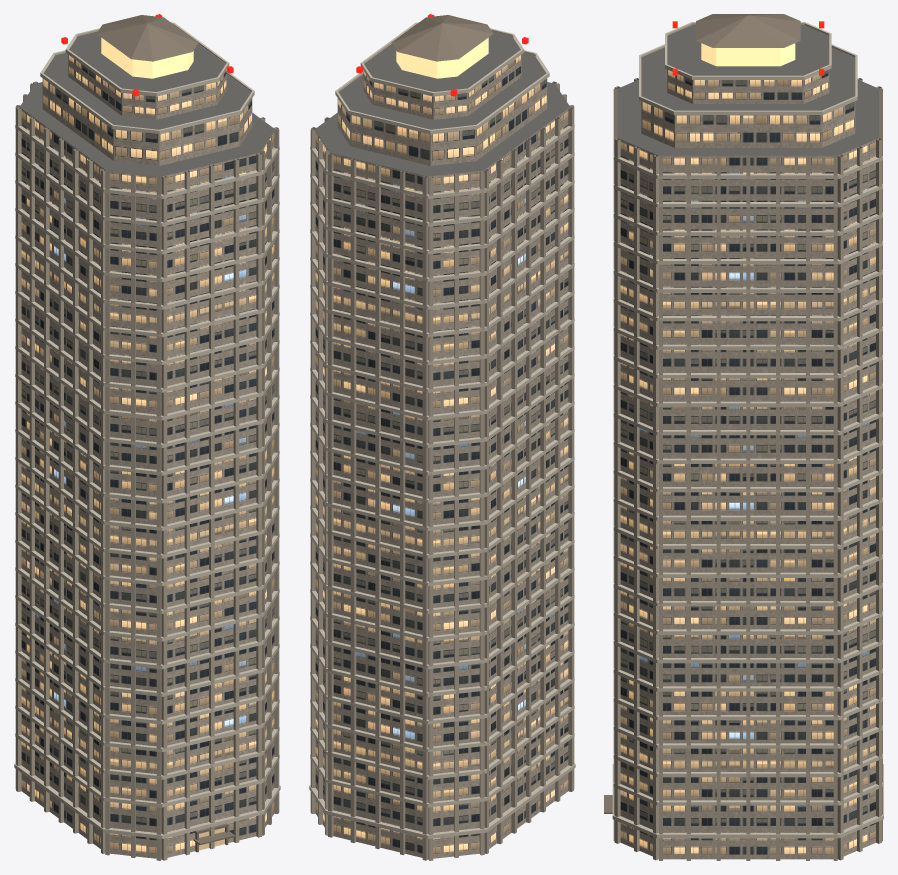
Rendered from river_city_21.glb.
The picture shows the model from 3 angles, left to right: view 1: azimuth 30°, elevation 25°; view 2: azimuth 150°, elevation 25°; view 3: azimuth 270°, elevation 25°; orthographic projection. The views are drawn at different scales.
Visible parts, largest first — view 1: river_city_21; view 2: river_city_21; view 3: river_city_21.
Boxes of the visible parts, x1,y1,x2,y2 form: river_city_21: (14,14,280,860); river_city_21: (309,14,575,860); river_city_21: (604,14,883,860).
Size of the model in its own units: 43 by 180 by 57.
2 materials, 2 textured.
